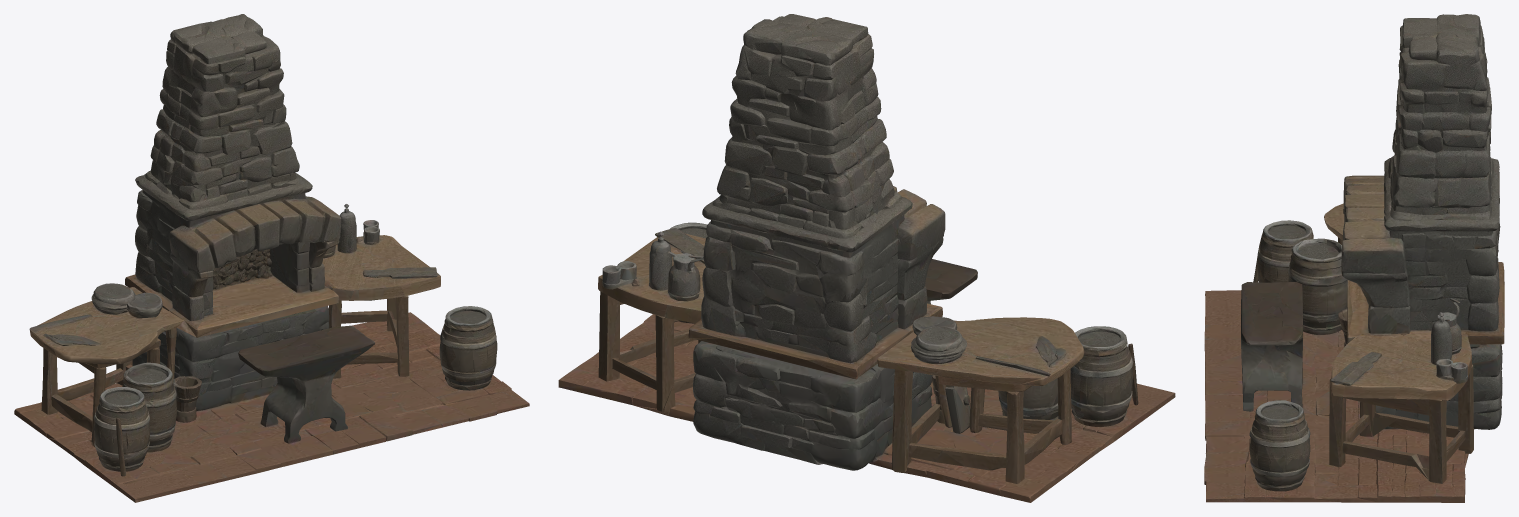
Rendered from blacksmith.glb.
The picture shows the model from 3 angles, left to right: view 1: azimuth 30°, elevation 25°; view 2: azimuth 150°, elevation 25°; view 3: azimuth 270°, elevation 25°; orthographic projection. The views are drawn at different scales.
Size of the model in its own units: 1.9 by 1.56 by 1.16.
Materials: 1 (1 with a texture image).
